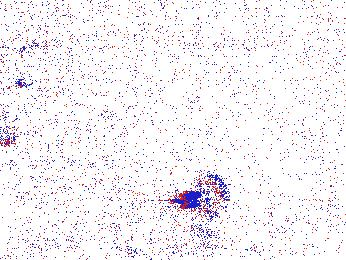flame jellyfish: (171, 167, 230, 225), (251, 173, 310, 228), (1, 47, 32, 149)
